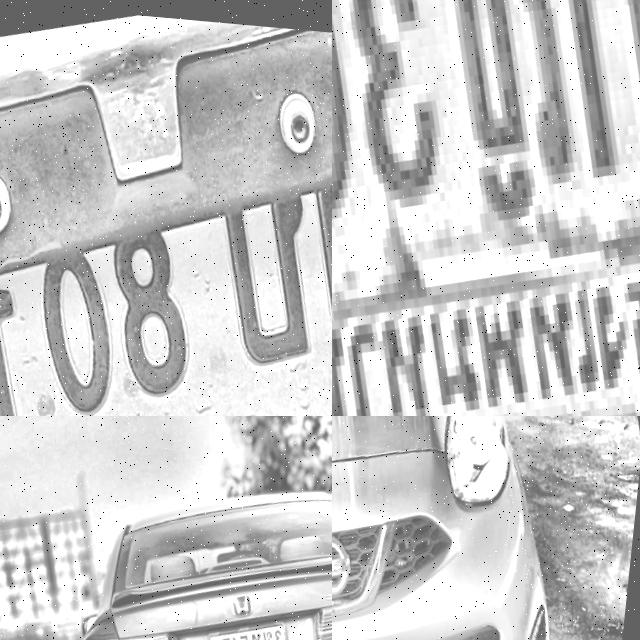license-plate: (332, 0, 640, 416), (0, 97, 332, 416), (203, 600, 307, 640)
